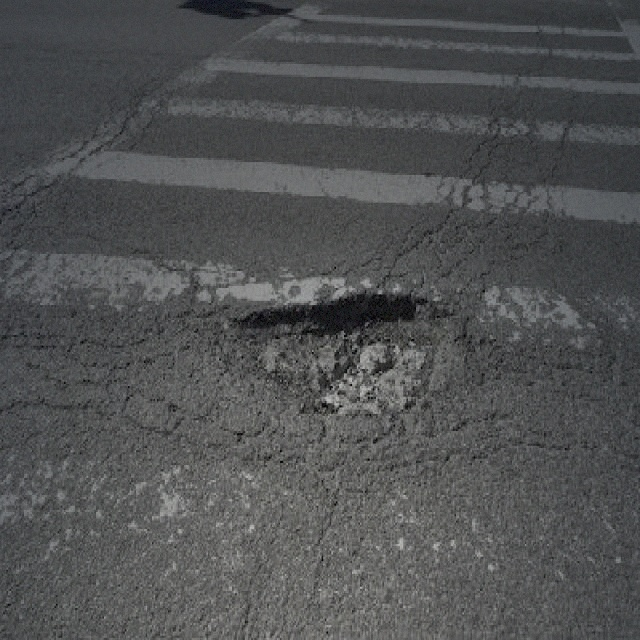pothole: (215, 286, 498, 424)
